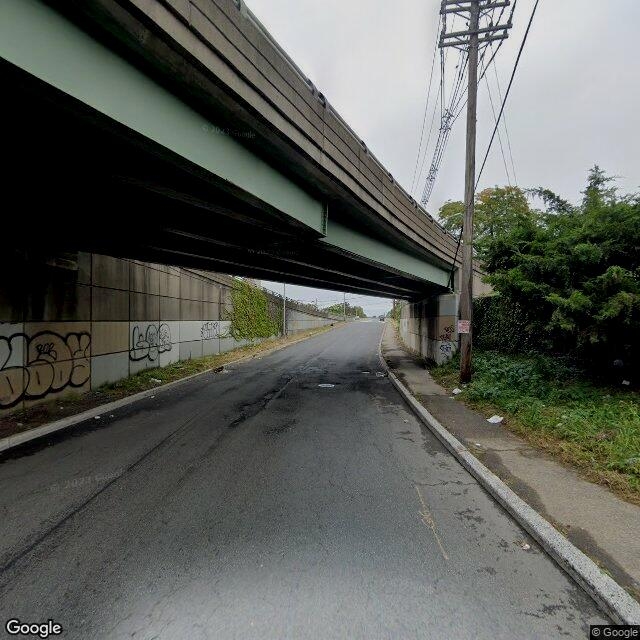pothole: (224, 416, 250, 428), (264, 390, 286, 404), (283, 374, 296, 384)
